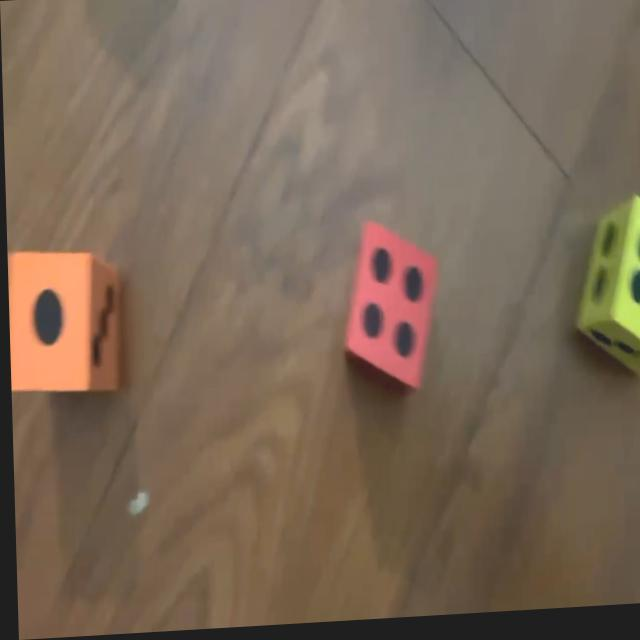cube: (337, 222, 438, 394)
